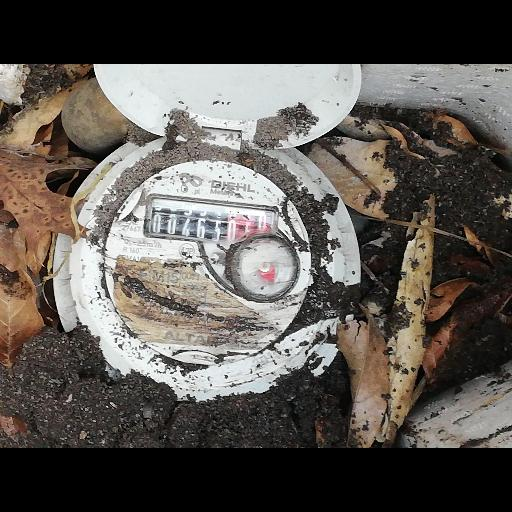0: (224, 214, 240, 245), (150, 207, 167, 236), (164, 208, 180, 237), (255, 212, 271, 237)
4: (179, 209, 196, 239)
5: (209, 212, 226, 244), (240, 215, 256, 244)
6: (193, 210, 211, 240)
border_water_meter_number: (143, 192, 280, 252)
